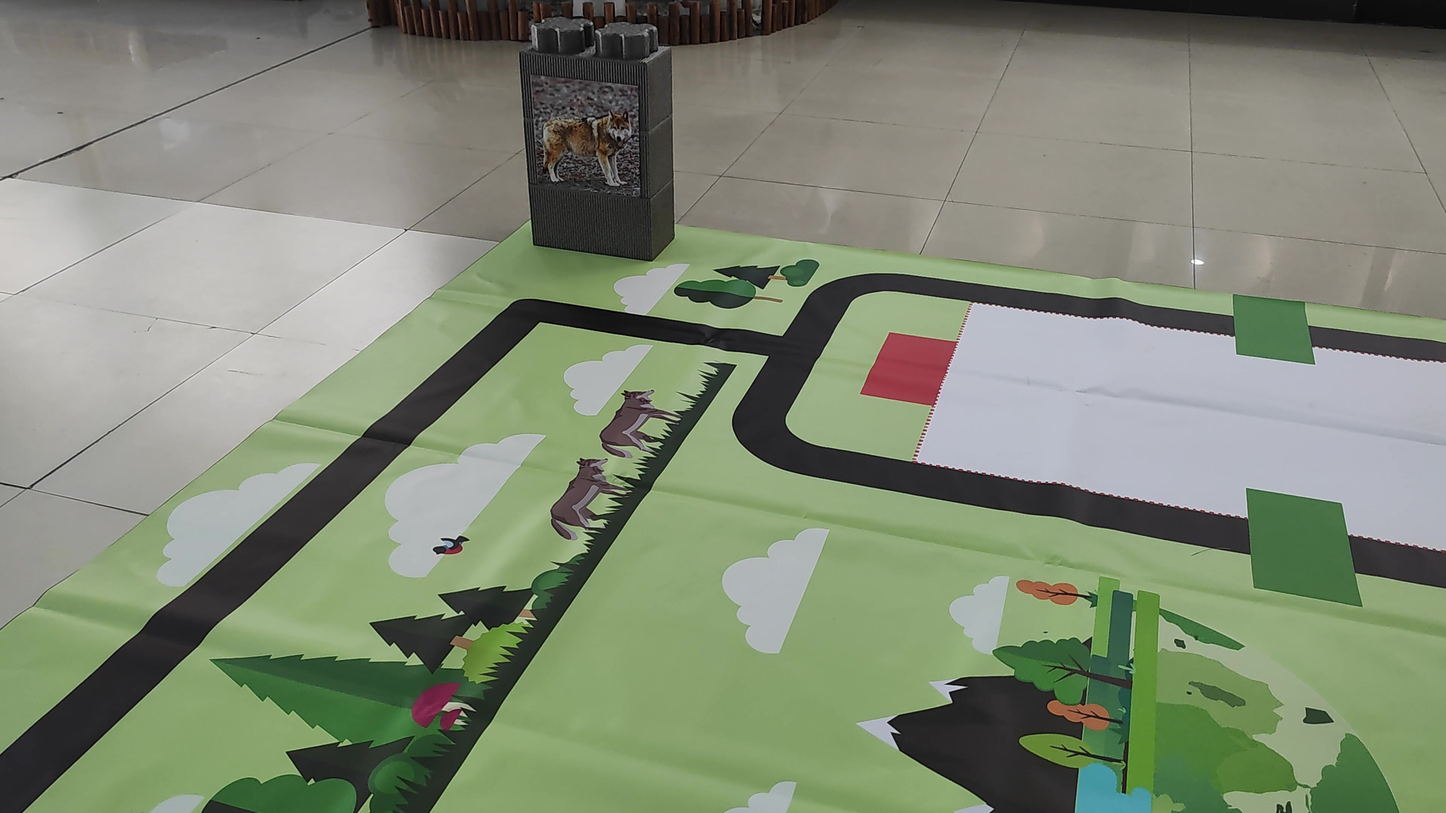wolf: (529, 99, 640, 201)
